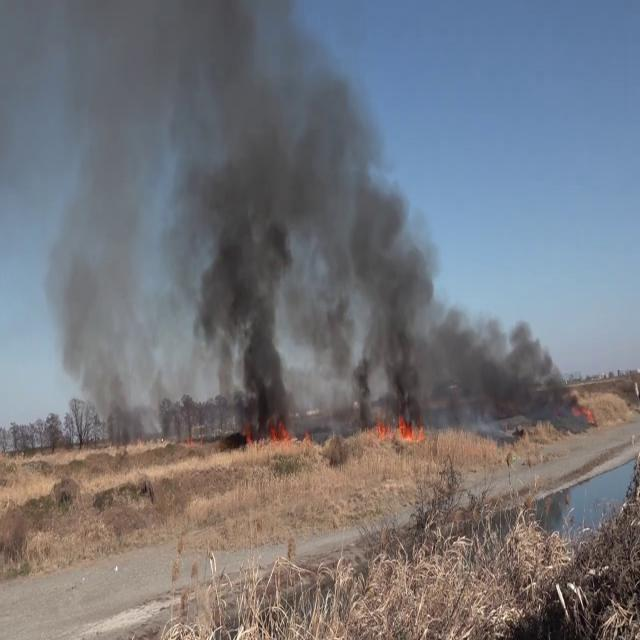Fire: (389, 404, 427, 444)
Smoke: (29, 0, 431, 425), (419, 296, 591, 427)
